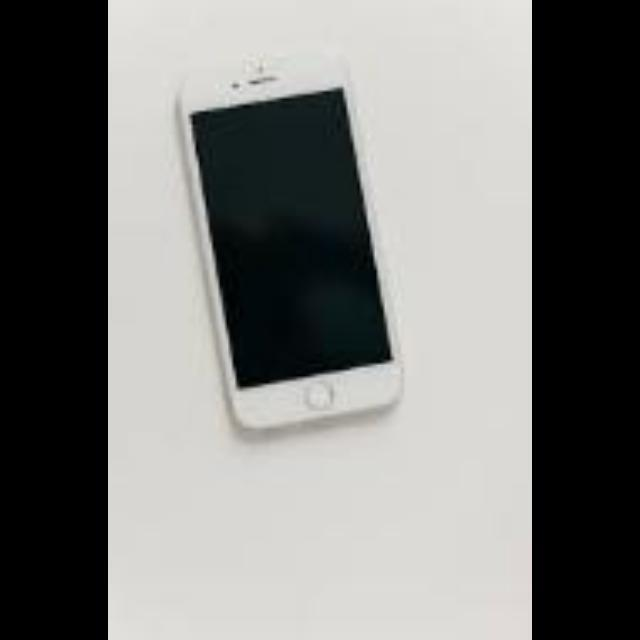PhoneUse: (180, 51, 406, 435)
